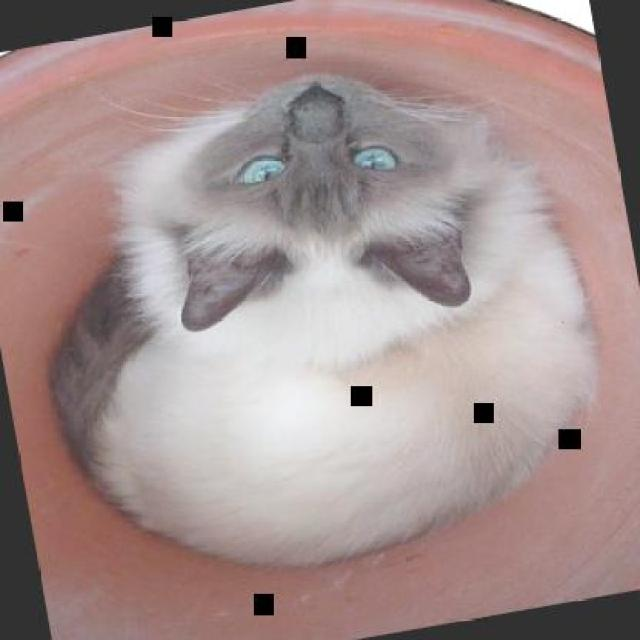cat: (3, 29, 626, 606)
